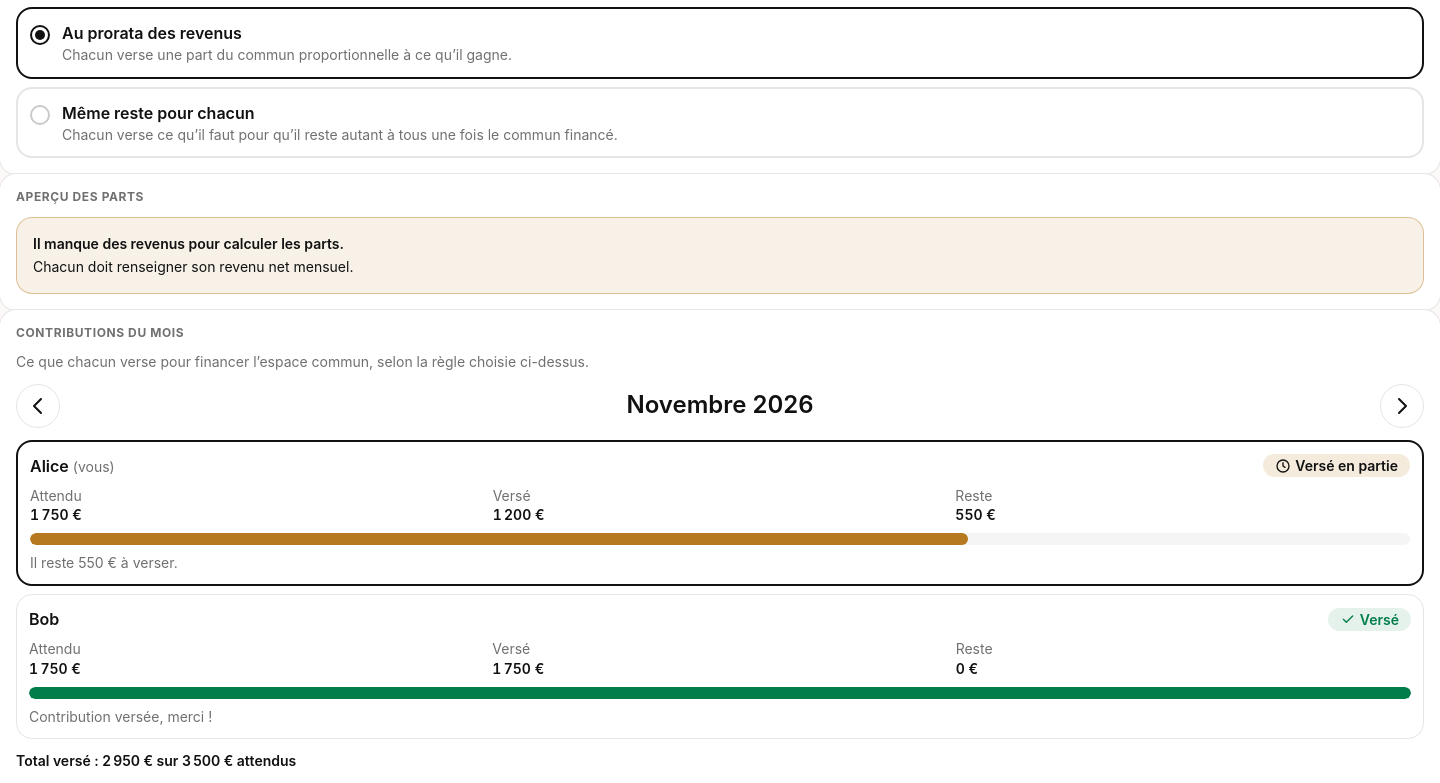
Scenario: FoyerPage « Contributions du mois » › status › changes month, up to next month but no further
(page scrolled)
Click the button named "Mois précédent" at (38, 406), box [16,384,60,428]
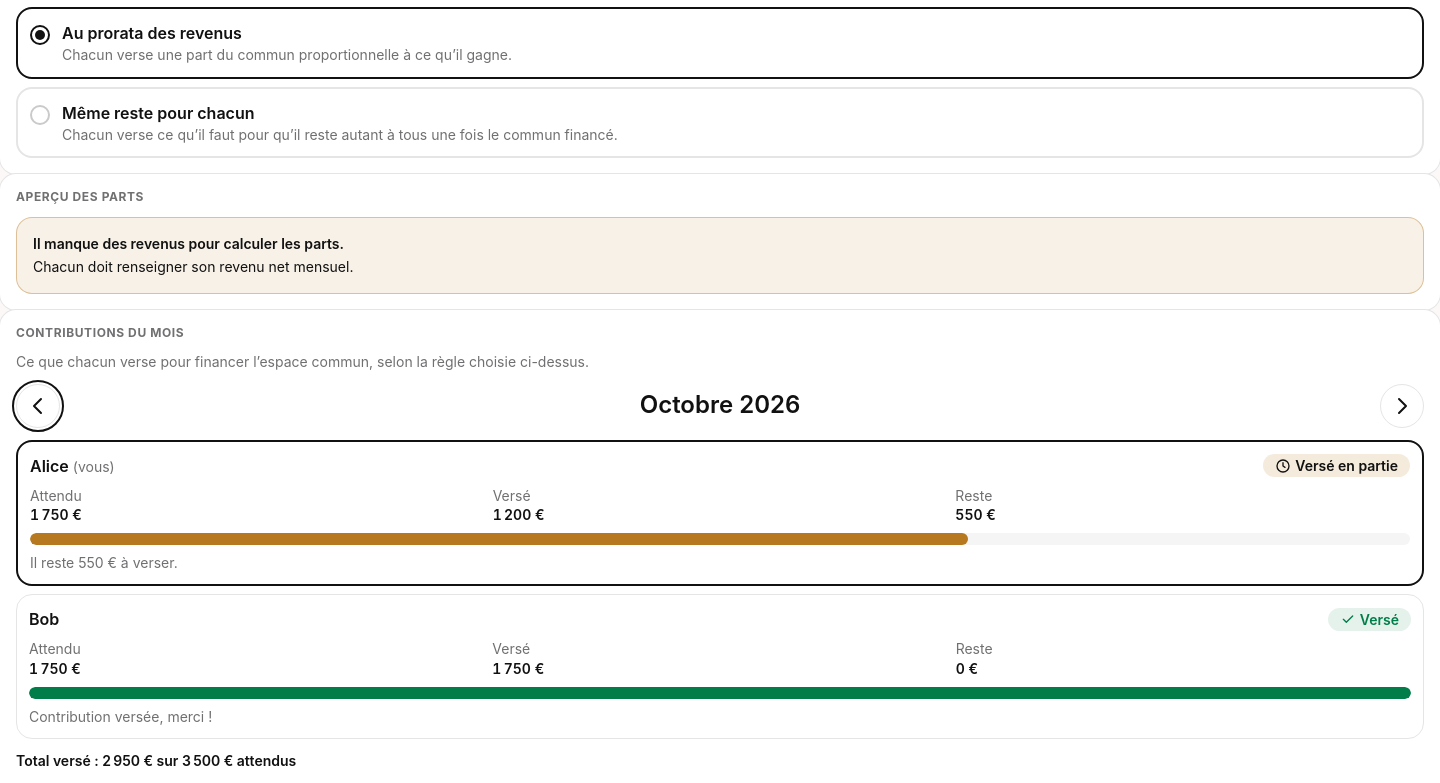
Click the button named "Mois suivant" at (1402, 406), box [1380,384,1424,428]
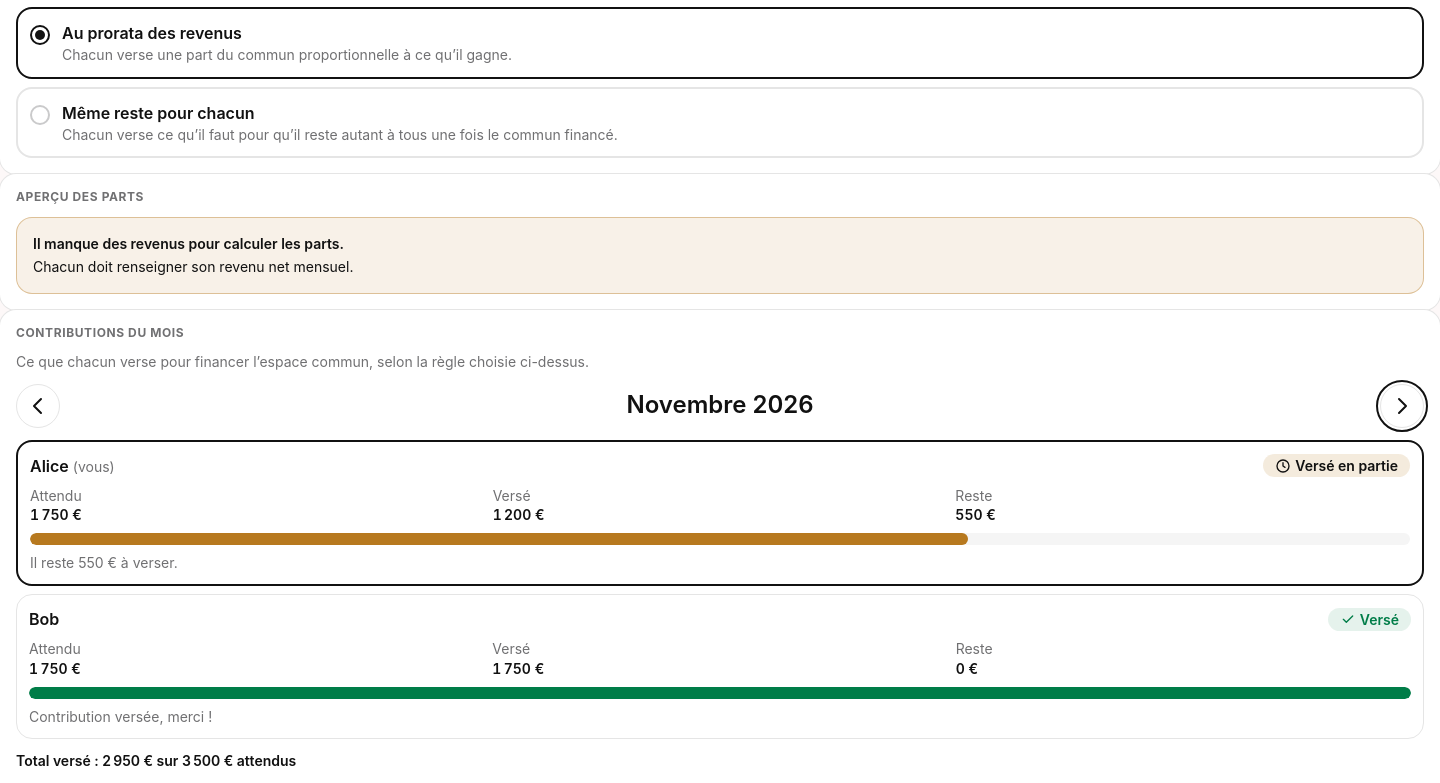
Click the button named "Mois suivant" at (1402, 406), box [1380,384,1424,428]
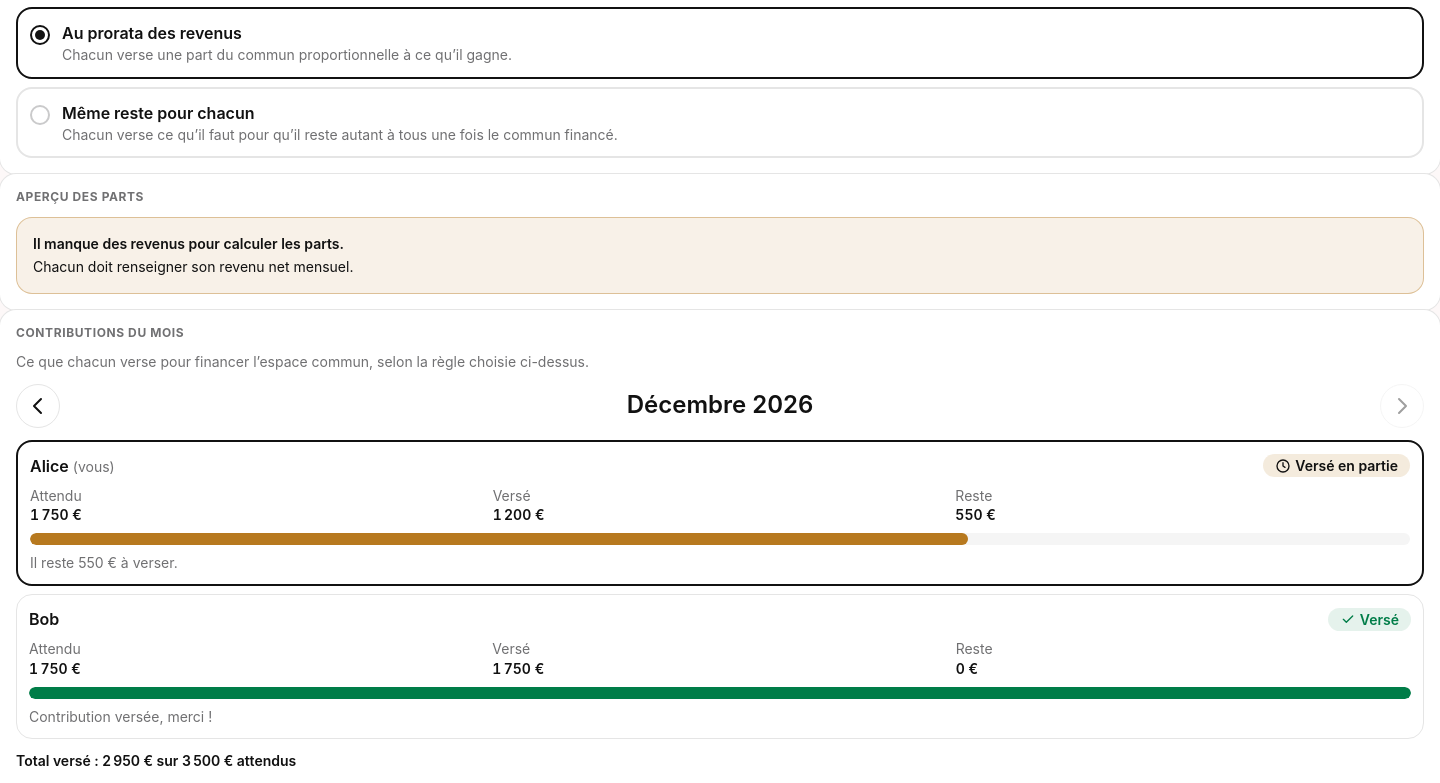
Result: the button named "Mois suivant" is disabled at [1380,384,1424,428]
